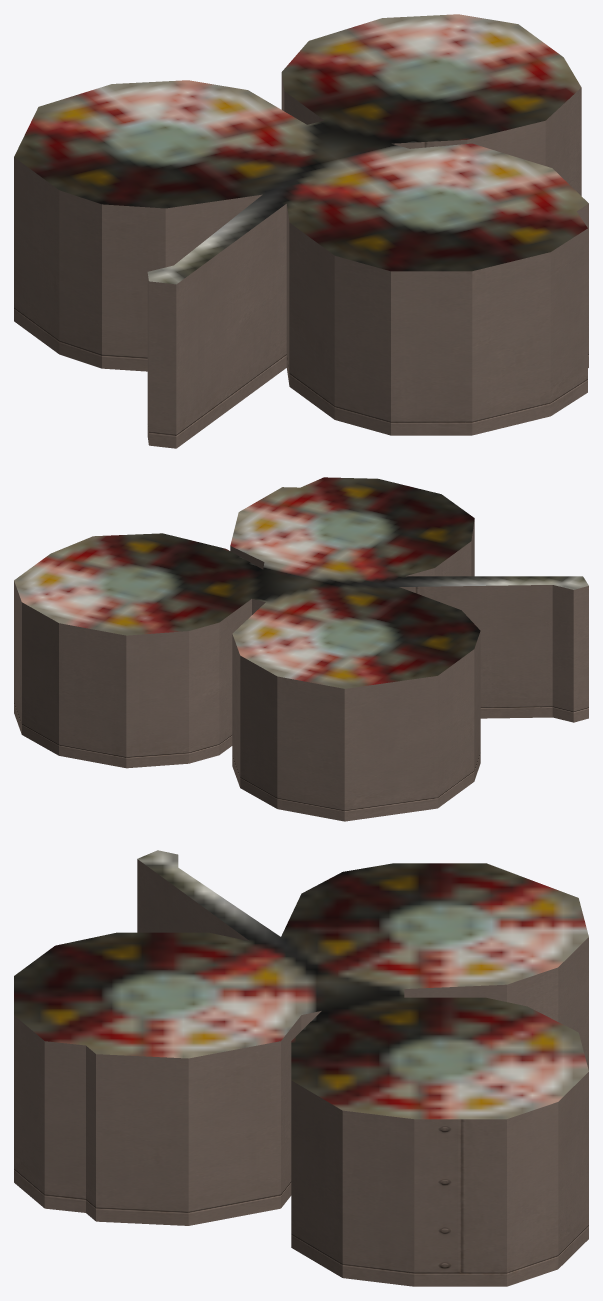
Rendered from fuel_tank_hard_16.glb.
The picture shows the model from 3 angles, top to bottom: view 1: azimuth 30°, elevation 25°; view 2: azimuth 150°, elevation 25°; view 3: azimuth 270°, elevation 25°; orthographic projection. The views are drawn at different scales.
Parts seen in each view (by area): view 1: buildings/saxarba/fuel_tanks/fuel_tank_hard_16; view 2: buildings/saxarba/fuel_tanks/fuel_tank_hard_16; view 3: buildings/saxarba/fuel_tanks/fuel_tank_hard_16.
Part boxes in pixels (bbox=[...]): buildings/saxarba/fuel_tanks/fuel_tank_hard_16: bbox=[14, 14, 588, 448]; buildings/saxarba/fuel_tanks/fuel_tank_hard_16: bbox=[14, 477, 588, 821]; buildings/saxarba/fuel_tanks/fuel_tank_hard_16: bbox=[14, 850, 588, 1286].
Size of the model in its own units: 62 by 18 by 56.
